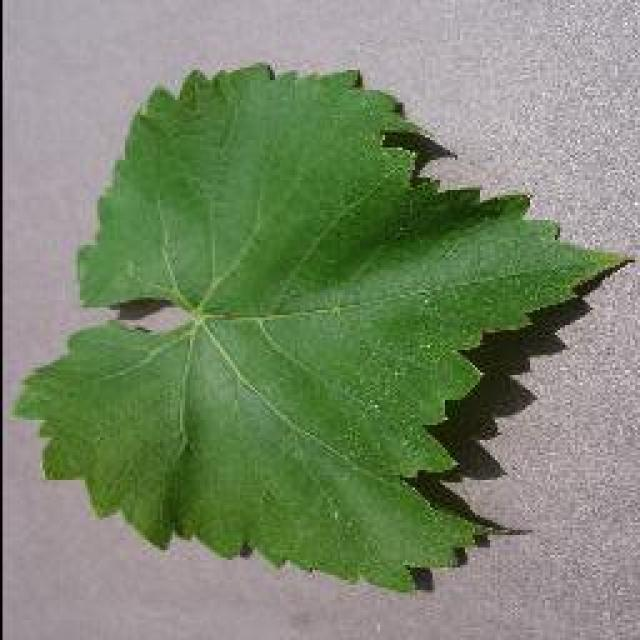Grape___healthy: (12, 62, 622, 590)
